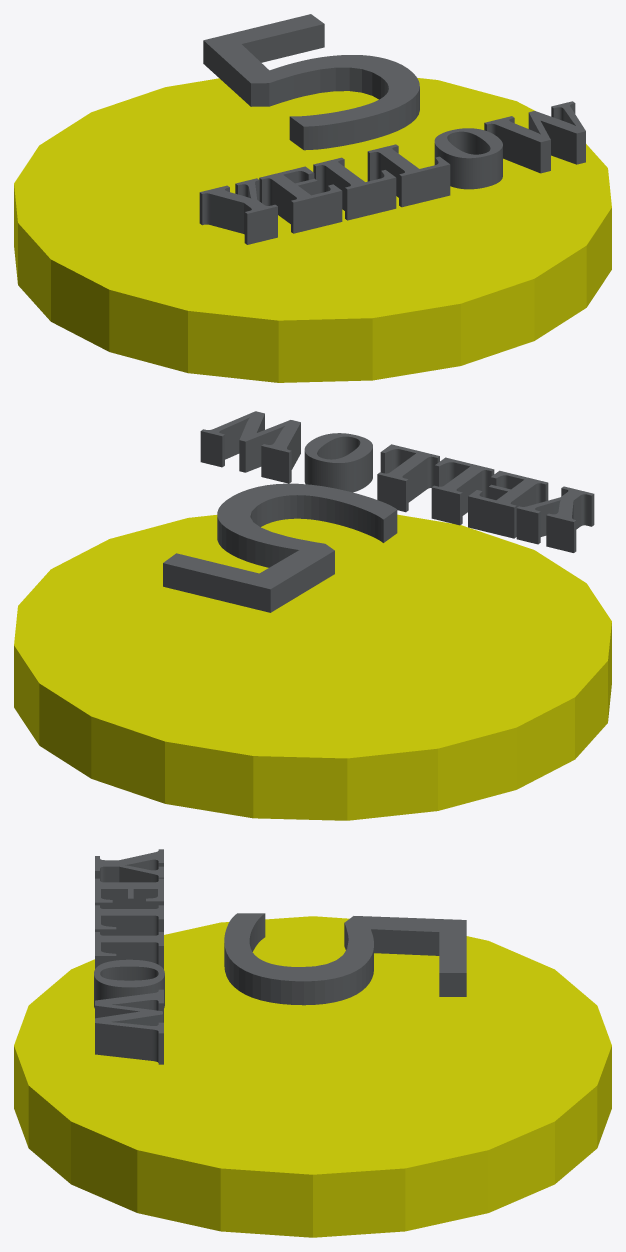
Rendered from 5yellow.gltf.
3 views of the same model, one above another, from view 1: azimuth 30°, elevation 25°; view 2: azimuth 150°, elevation 25°; view 3: azimuth 270°, elevation 25° (orthographic).
Visible parts, largest first — view 1: Mesh_Mesh_head_geo001_lambert2SG001; view 2: Mesh_Mesh_head_geo001_lambert2SG001; view 3: Mesh_Mesh_head_geo001_lambert2SG001.
Part boxes in pixels (left/top/right/bottom): Mesh_Mesh_head_geo001_lambert2SG001: left=14, top=14, right=611, bottom=382; Mesh_Mesh_head_geo001_lambert2SG001: left=14, top=411, right=611, bottom=820; Mesh_Mesh_head_geo001_lambert2SG001: left=14, top=849, right=611, bottom=1237.
Size of the model in its own units: 176 by 54.56 by 172.
